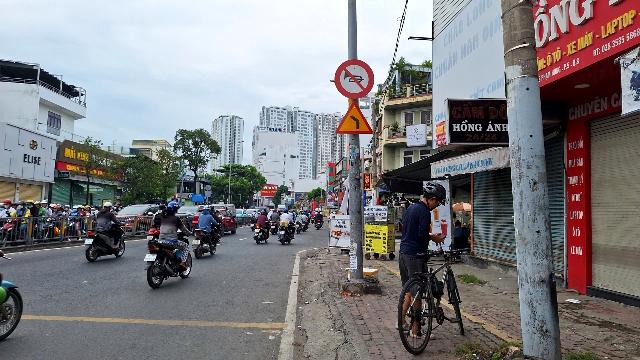cam-bop-coi: (334, 59, 374, 100)
cho-ngoat-nguy-hiem-ben-trai: (335, 101, 374, 134)
